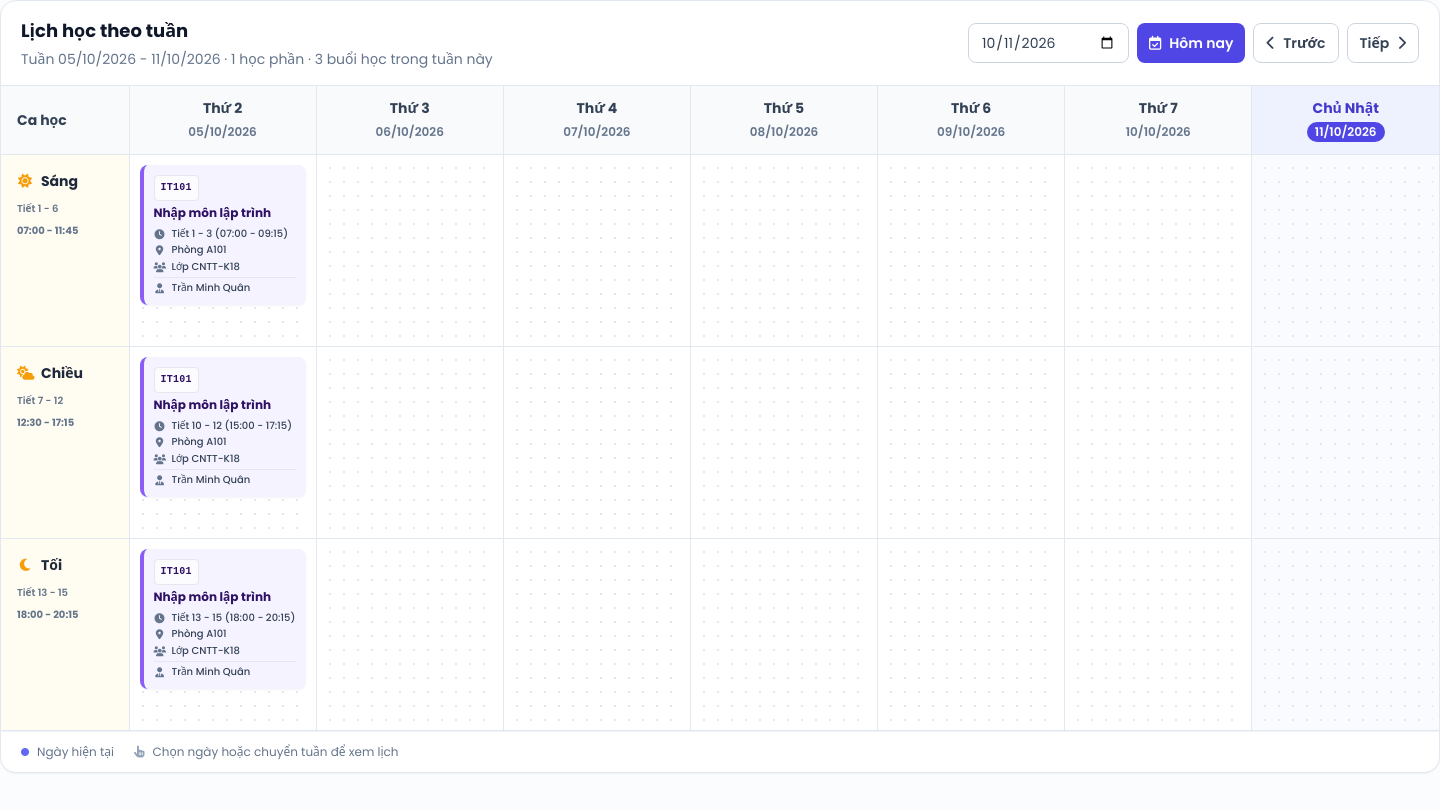
Test case: StudentWeeklySchedule › changes the displayed week using the date picker and week actions
Type "2026-10-14" into the date field named "Chọn ngày trong tuần" at coordinates (1048, 43), box [968,23,1129,63]
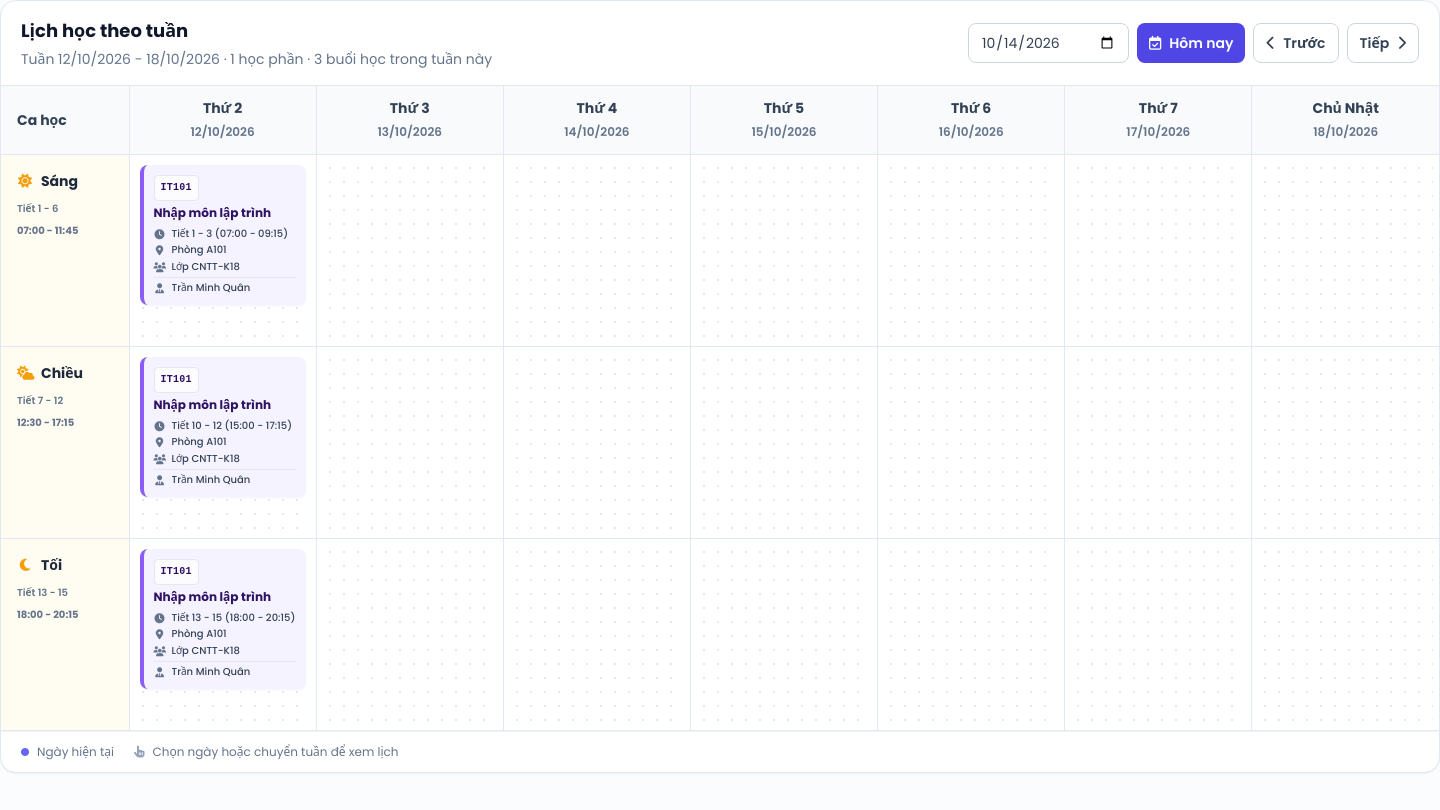
Now the text "12/10/2026 - 18/10/2026" is shown, box [58,49,220,69]
Click the button with aria-label "Tuần trước" at coordinates (1296, 43), box [1253,23,1338,63]
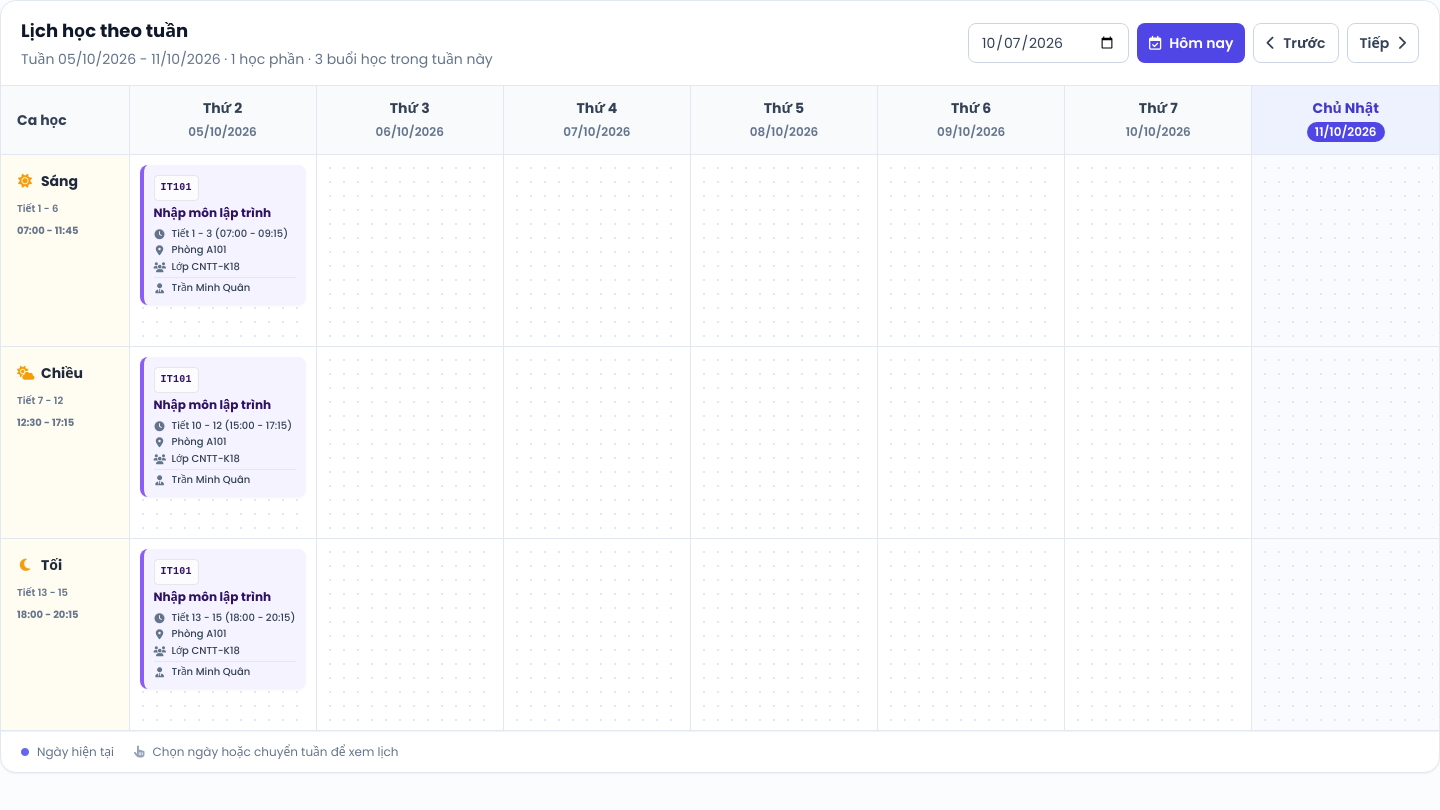
Now the text "05/10/2026 - 11/10/2026" is shown, box [58,49,221,69]
Click the button "Hôm nay" at coordinates (1191, 43), box [1137,23,1246,63]
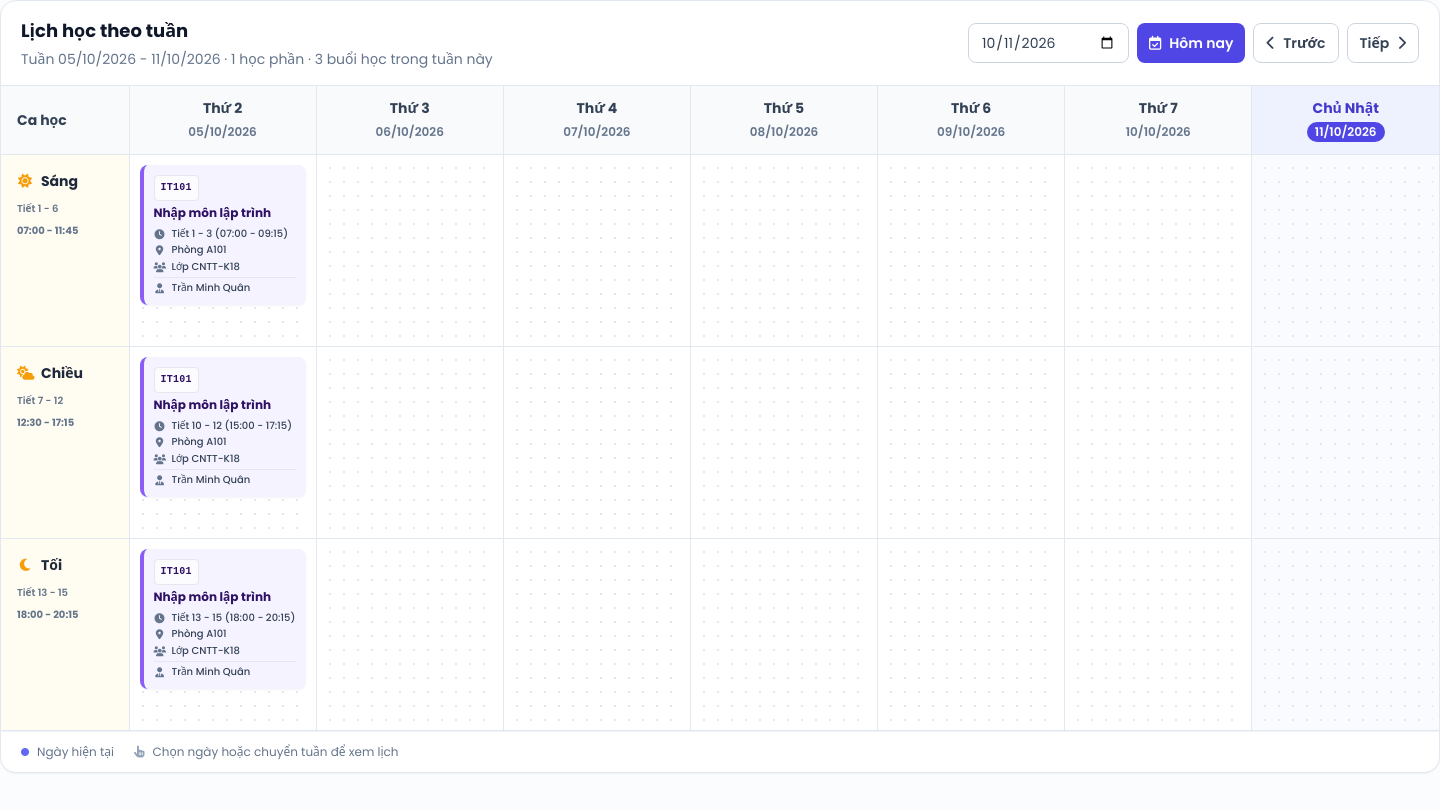
Now the date field named "Chọn ngày trong tuần" holds "2026-10-11", box [968,23,1129,63]
